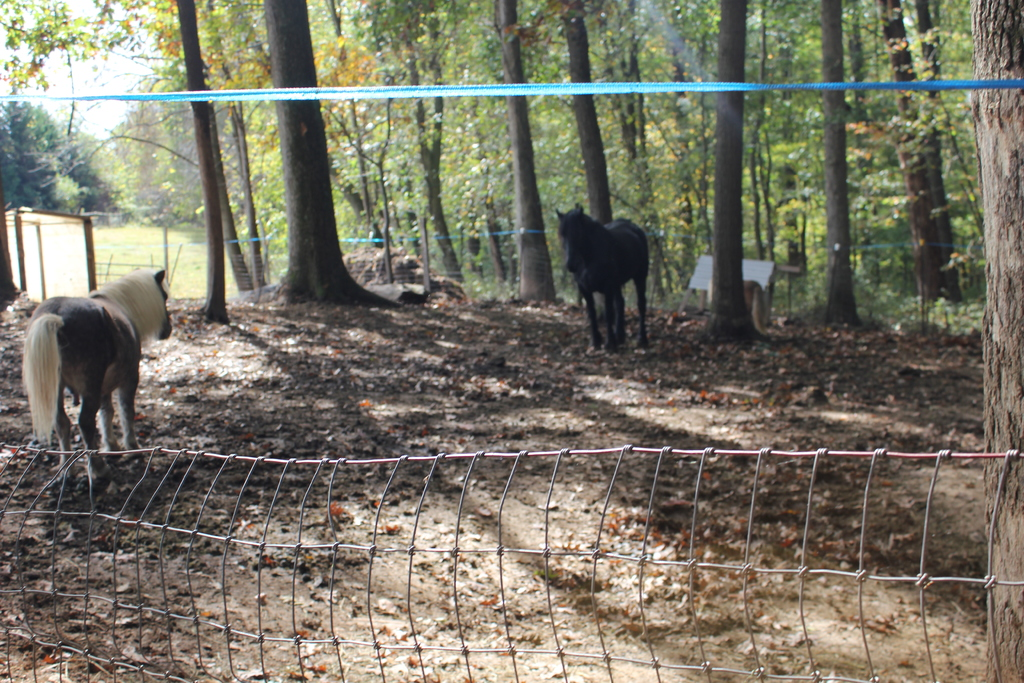horse: (552, 200, 652, 356)
